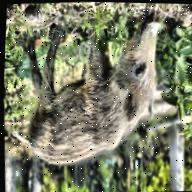boar: (5, 0, 176, 177)
